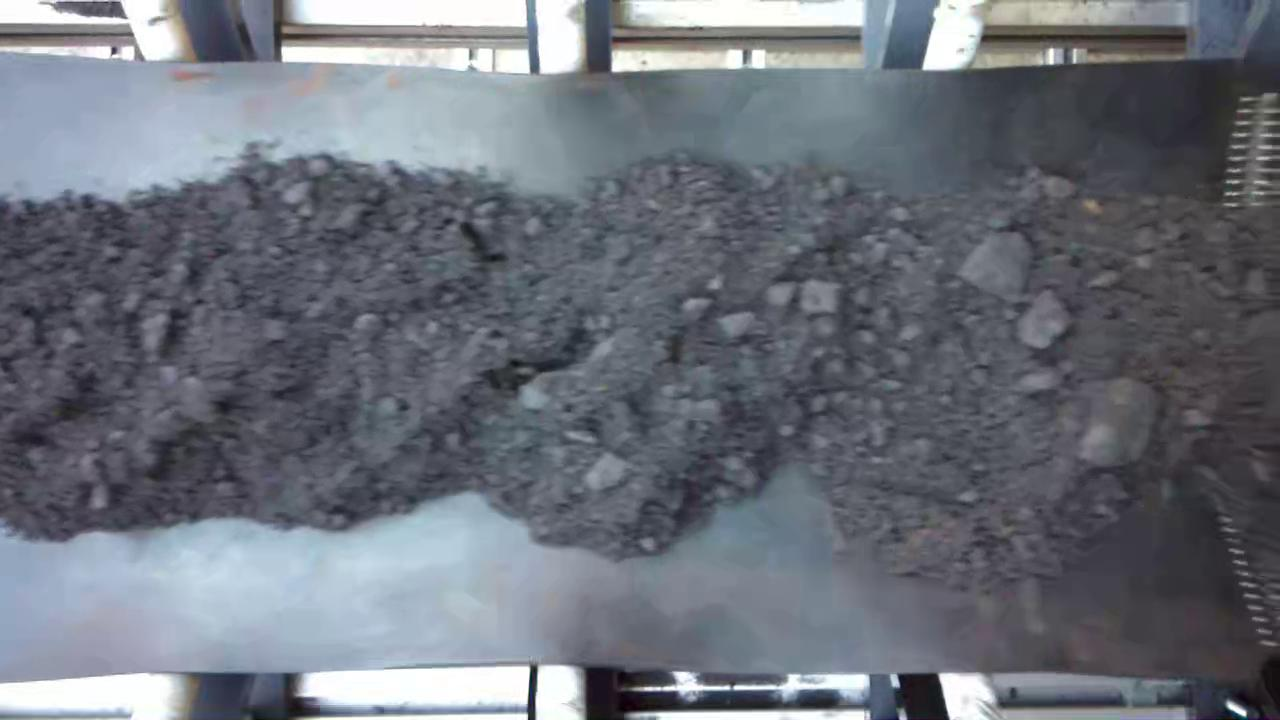conveyor: (5, 76, 1280, 667)
